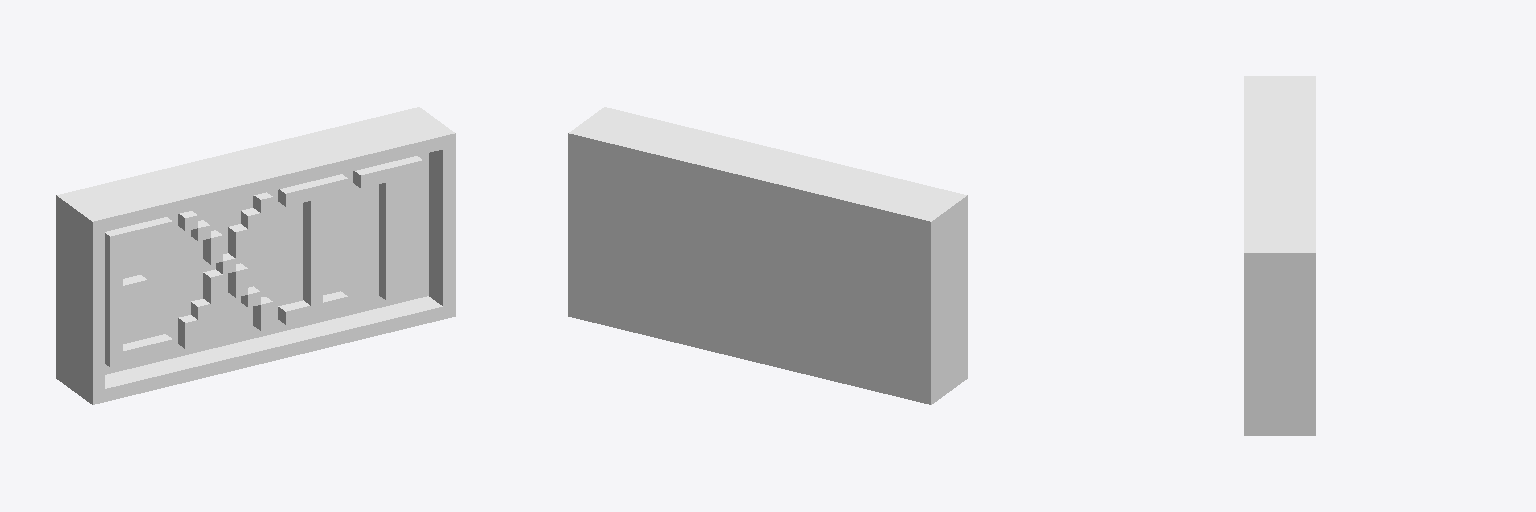
Rendered from exit-sign.obj.
3 views of the same model, side by side, from view 1: azimuth 30°, elevation 25°; view 2: azimuth 150°, elevation 25°; view 3: azimuth 270°, elevation 25° (orthographic).
Visible parts, largest first — view 1: object 1; view 2: object 1; view 3: object 1.
Part boxes in pixels (left/top/right/bottom): object 1: left=56, top=107, right=455, bottom=404; object 1: left=568, top=107, right=967, bottom=404; object 1: left=1244, top=76, right=1315, bottom=435.
Bounding box in the file's own units: 2.9 × 1.4 × 0.5.